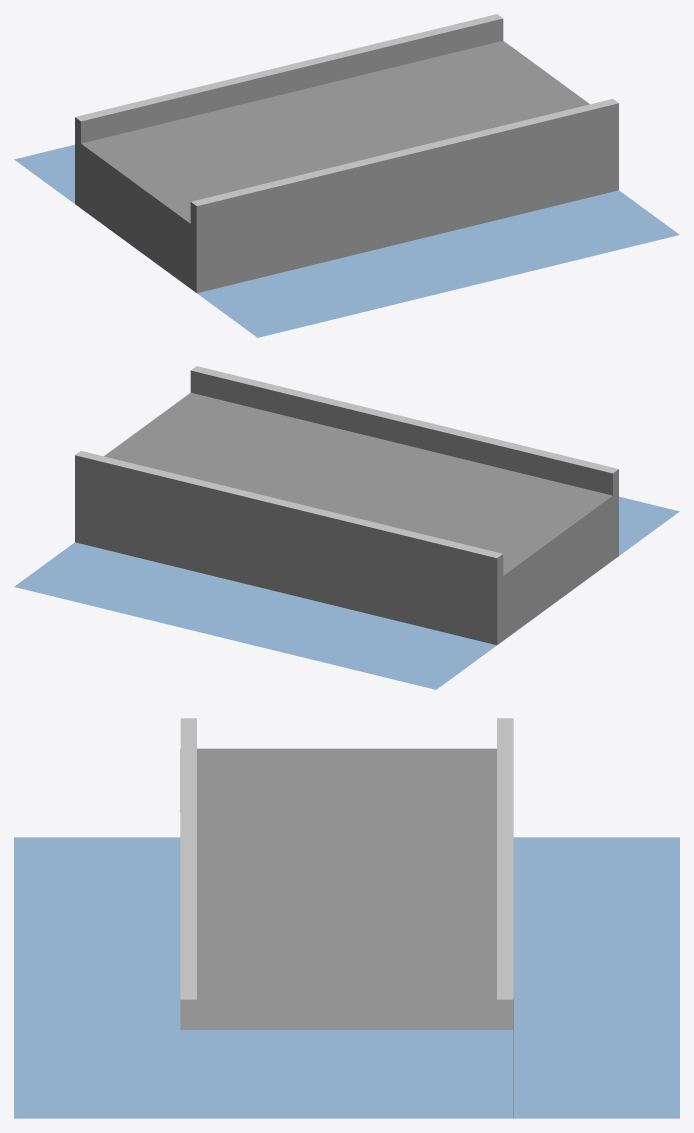
Rendered from port_tile_1x1_003.fbx.
The picture shows the model from 3 angles, top to bottom: view 1: azimuth 30°, elevation 25°; view 2: azimuth 150°, elevation 25°; view 3: azimuth 270°, elevation 25°; orthographic projection. The views are drawn at different scales.
Visible parts, largest first — view 1: port_tile_1x1_003; view 2: port_tile_1x1_003; view 3: port_tile_1x1_003.
Boxes of the visible parts, x1,y1,x2,y2 form: port_tile_1x1_003: (14, 14, 679, 337); port_tile_1x1_003: (14, 366, 679, 689); port_tile_1x1_003: (14, 718, 679, 1118).
Size of the model in its own units: 800 by 158 by 800.
